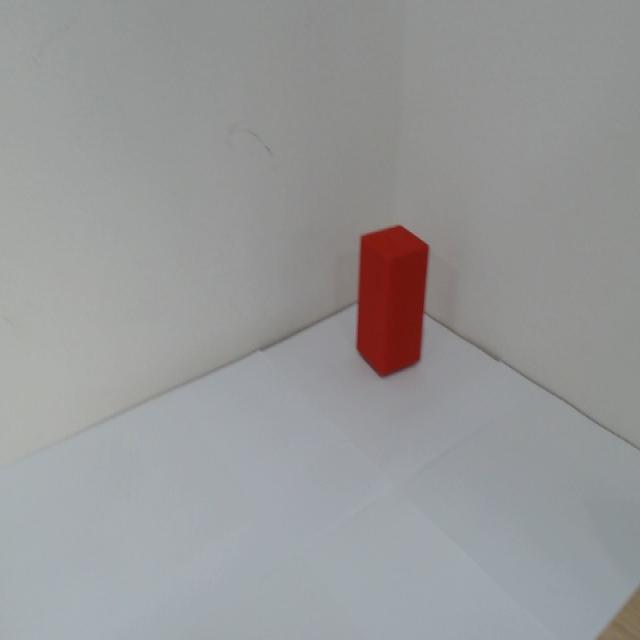cube: (352, 218, 432, 385)
